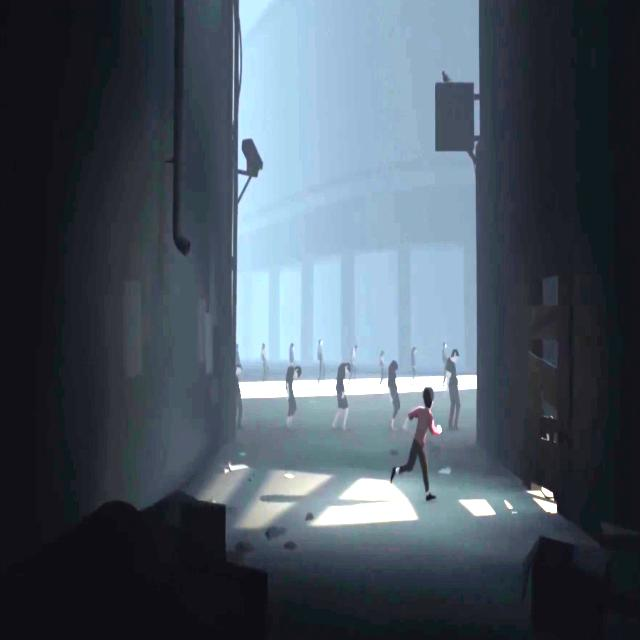boy: (392, 384, 442, 504)
zombie: (333, 361, 352, 430), (384, 357, 402, 426), (446, 349, 460, 431), (285, 364, 301, 427), (235, 364, 243, 429), (318, 338, 327, 384), (260, 344, 268, 382), (410, 346, 418, 382), (352, 346, 358, 380), (379, 350, 384, 386), (289, 343, 295, 364)
